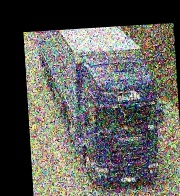truck: (37, 24, 168, 189)
